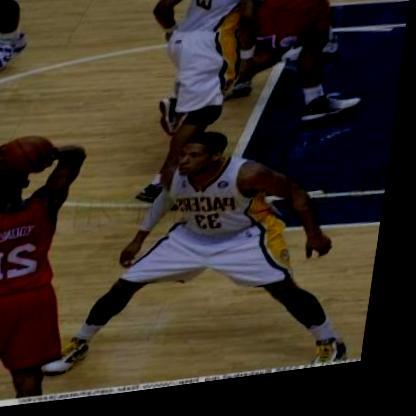basketball: (1, 131, 61, 179)
